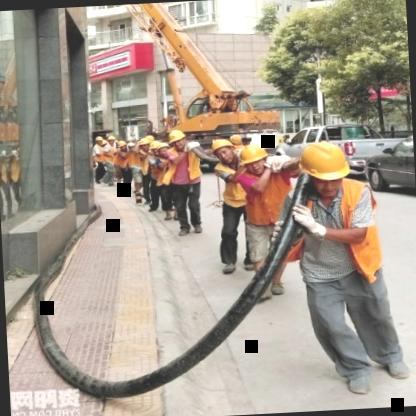helmet: (295, 139, 356, 196), (238, 141, 270, 177), (209, 136, 235, 165), (164, 127, 186, 152), (155, 139, 173, 158), (137, 136, 152, 152), (116, 139, 127, 151), (106, 134, 116, 144), (95, 134, 103, 144)
